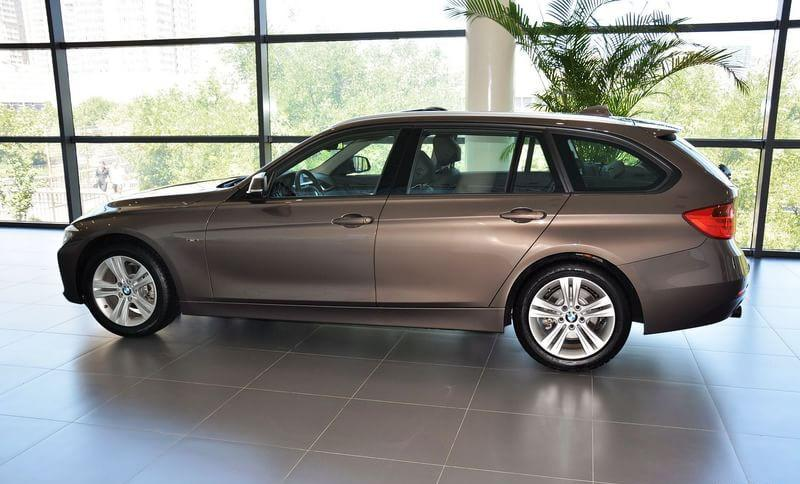Wagon: (57, 102, 752, 372)
